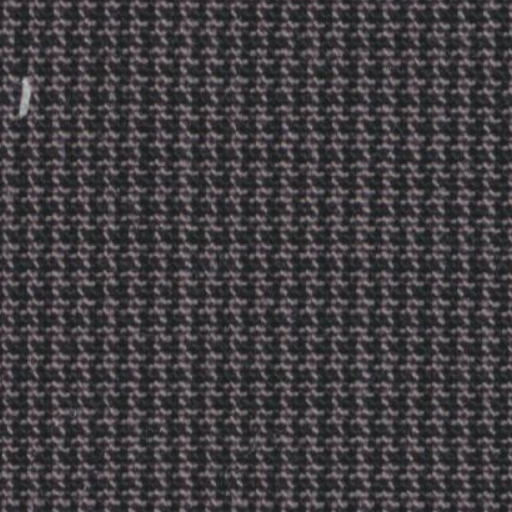DuanSha: (8, 64, 44, 127)
